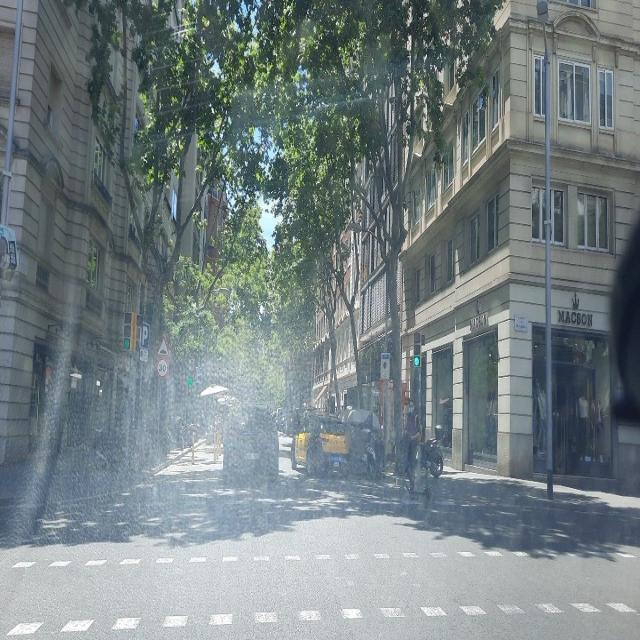bike: (420, 433, 453, 480)
car: (222, 405, 280, 486), (291, 407, 350, 477)
